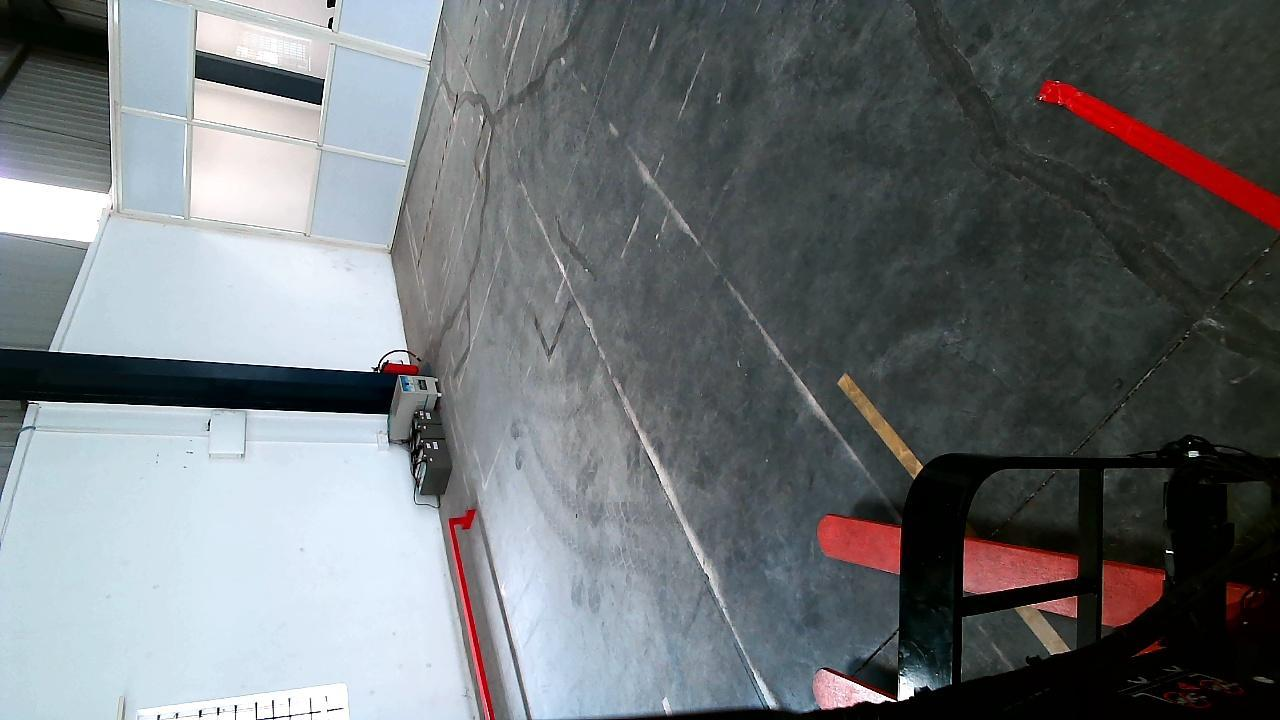red_line: (1044, 74, 1276, 229), (839, 375, 922, 481)
